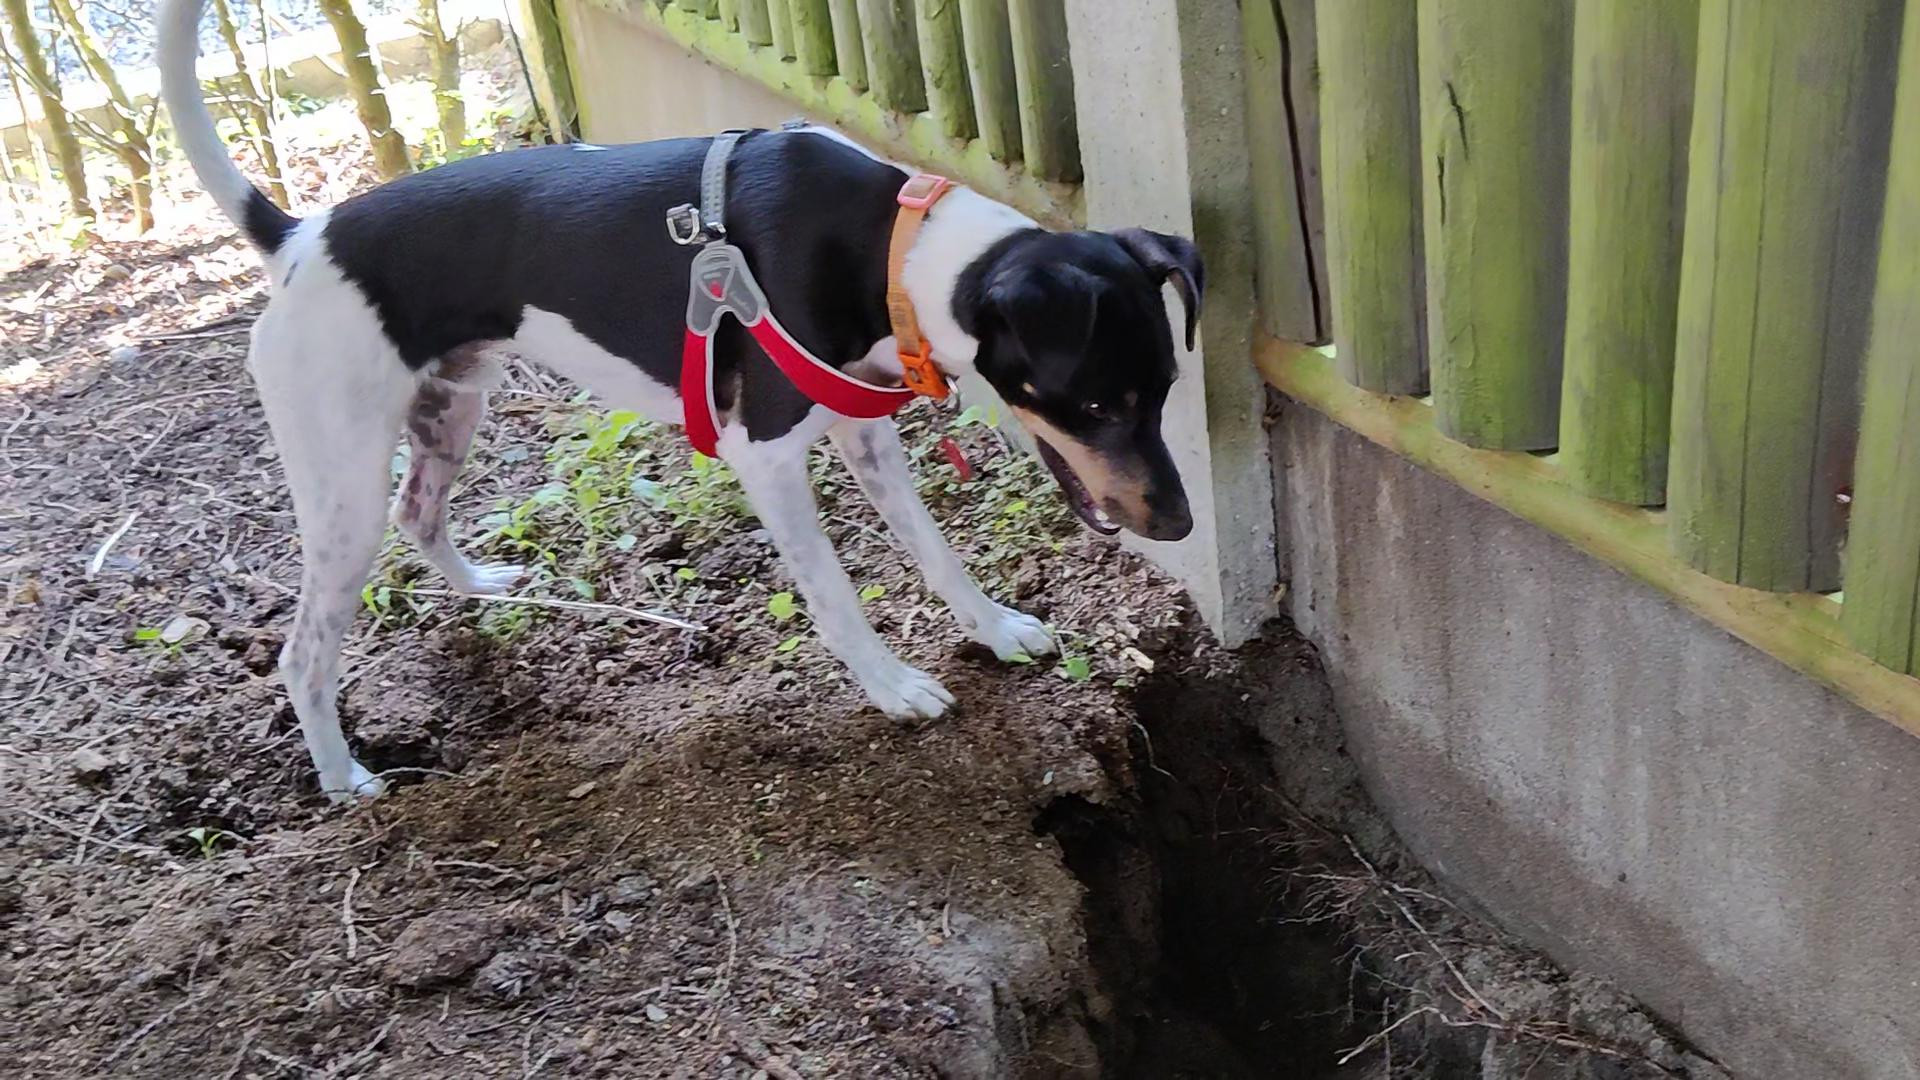Dog: (128, 0, 1255, 818)
